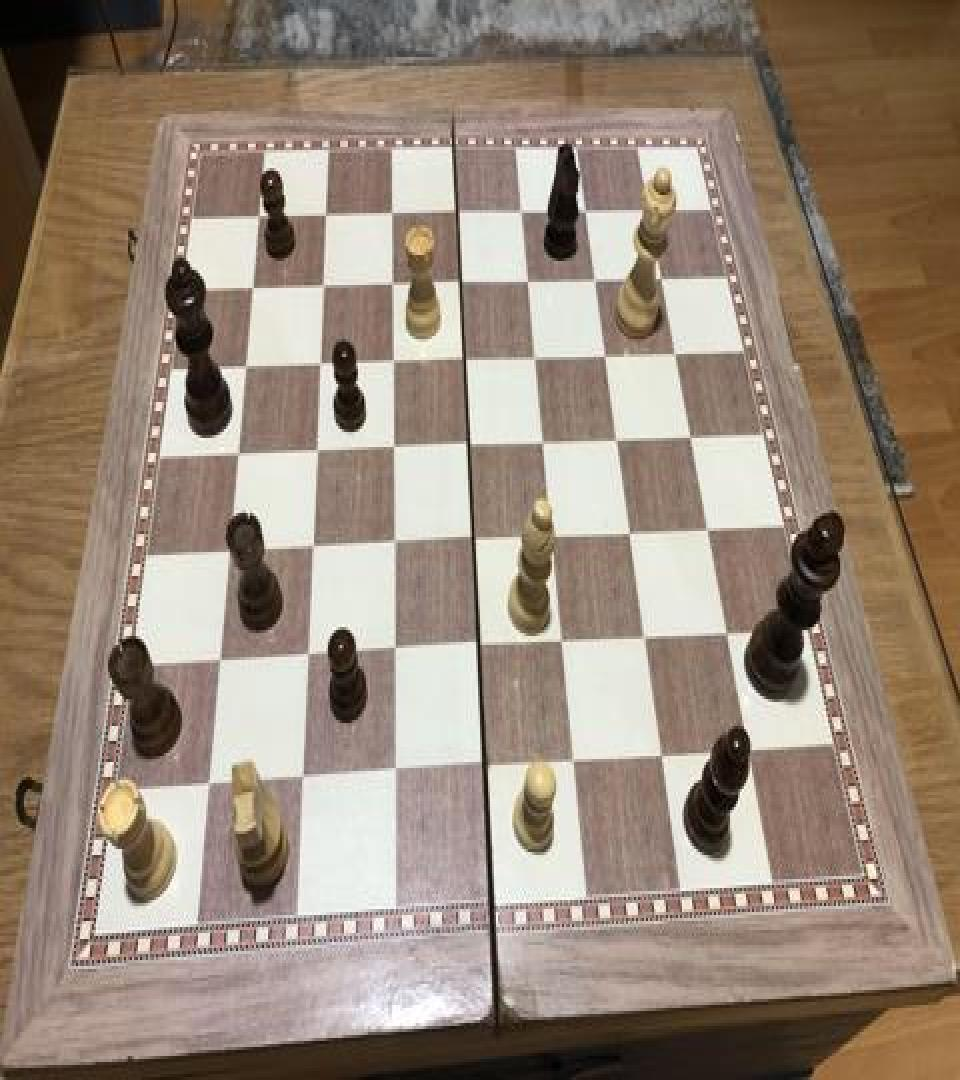xcorner: (538, 520, 562, 557), (631, 622, 655, 659), (464, 631, 488, 668), (292, 640, 316, 677), (735, 733, 759, 770), (647, 739, 671, 776), (638, 190, 662, 226), (574, 192, 598, 228), (509, 195, 533, 231), (443, 196, 467, 232), (377, 198, 401, 234), (311, 200, 335, 236), (244, 201, 268, 237), (650, 261, 674, 297), (583, 262, 607, 298), (515, 264, 539, 300), (447, 267, 471, 303), (378, 268, 402, 304), (308, 270, 332, 306), (238, 273, 262, 309), (664, 336, 688, 372), (593, 339, 617, 375), (522, 342, 546, 378), (378, 346, 402, 382), (304, 350, 328, 386), (231, 351, 255, 387), (679, 420, 703, 456), (605, 423, 629, 459), (530, 426, 554, 462), (454, 429, 478, 465), (378, 432, 402, 468), (301, 436, 325, 472), (223, 440, 247, 476), (695, 513, 719, 549), (617, 518, 641, 554), (459, 525, 483, 561), (378, 528, 402, 564), (297, 532, 321, 568), (214, 536, 238, 572), (714, 618, 738, 654), (548, 627, 572, 663), (378, 636, 402, 672), (205, 645, 229, 681), (559, 746, 583, 782), (469, 750, 493, 786), (378, 756, 402, 792), (287, 762, 311, 798), (194, 766, 218, 802), (450, 344, 474, 379)
